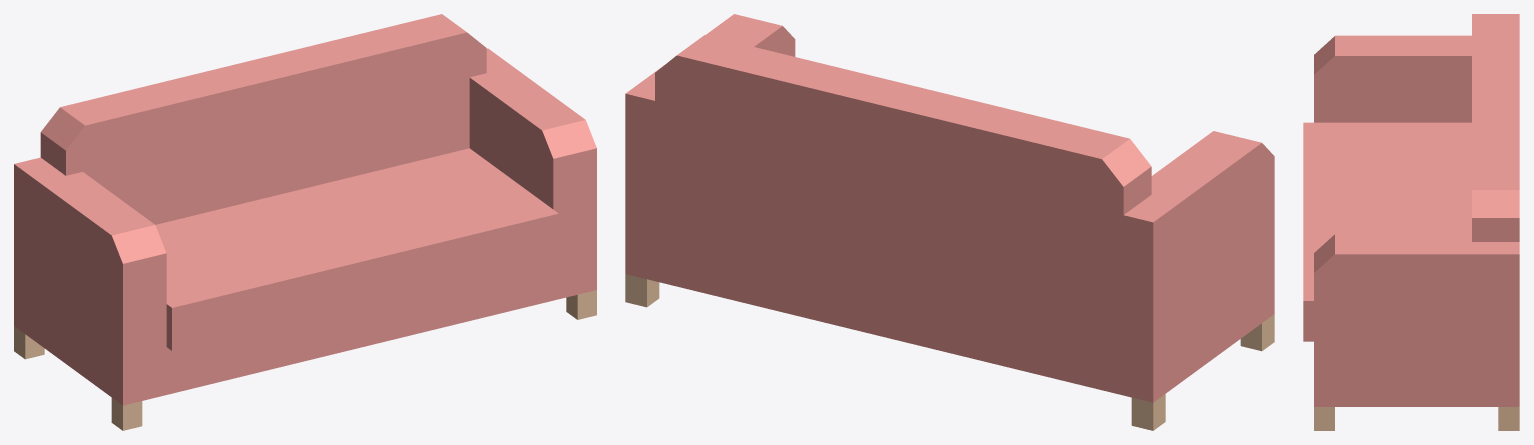
File: loungeSofa.glb
3 views of the same model, side by side, from view 1: azimuth 30°, elevation 25°; view 2: azimuth 150°, elevation 25°; view 3: azimuth 270°, elevation 25° (orthographic). The views are drawn at different scales.
Parts seen in each view (by area): view 1: loungeSofa(Clone); view 2: loungeSofa(Clone); view 3: loungeSofa(Clone).
Boxes of the visible parts, x1=… form: loungeSofa(Clone): x1=14, y1=14, x2=596, y2=430; loungeSofa(Clone): x1=625, y1=14, x2=1274, y2=430; loungeSofa(Clone): x1=1303, y1=14, x2=1519, y2=430.
Size of the model in its own units: 0.98 by 0.46 by 0.41.
